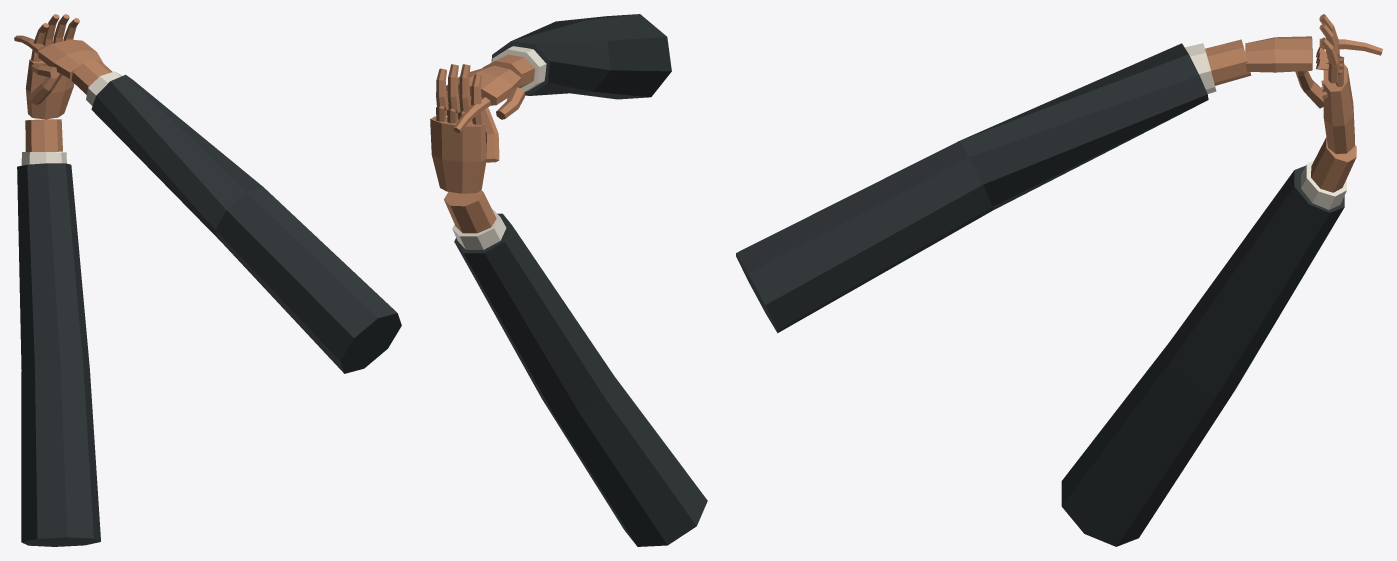
Rendered from hands.glb.
3 renders of one model, left to right at view 1: azimuth 30°, elevation 25°; view 2: azimuth 150°, elevation 25°; view 3: azimuth 270°, elevation 25°, orthographic. The views are drawn at different scales.
Parts seen in each view (by area): view 1: hand_left, hand_right; view 2: hand_left, hand_right; view 3: hand_right, hand_left.
Boxes of the visible parts, bbox=[...] form: hand_left: bbox=[17, 14, 100, 546]; hand_right: bbox=[14, 35, 401, 373]; hand_left: bbox=[430, 64, 707, 546]; hand_right: bbox=[436, 14, 671, 132]; hand_right: bbox=[736, 36, 1382, 333]; hand_left: bbox=[1061, 14, 1356, 546].
Bounding box in the file's own units: 0.4675 × 0.8587 × 0.8852.
